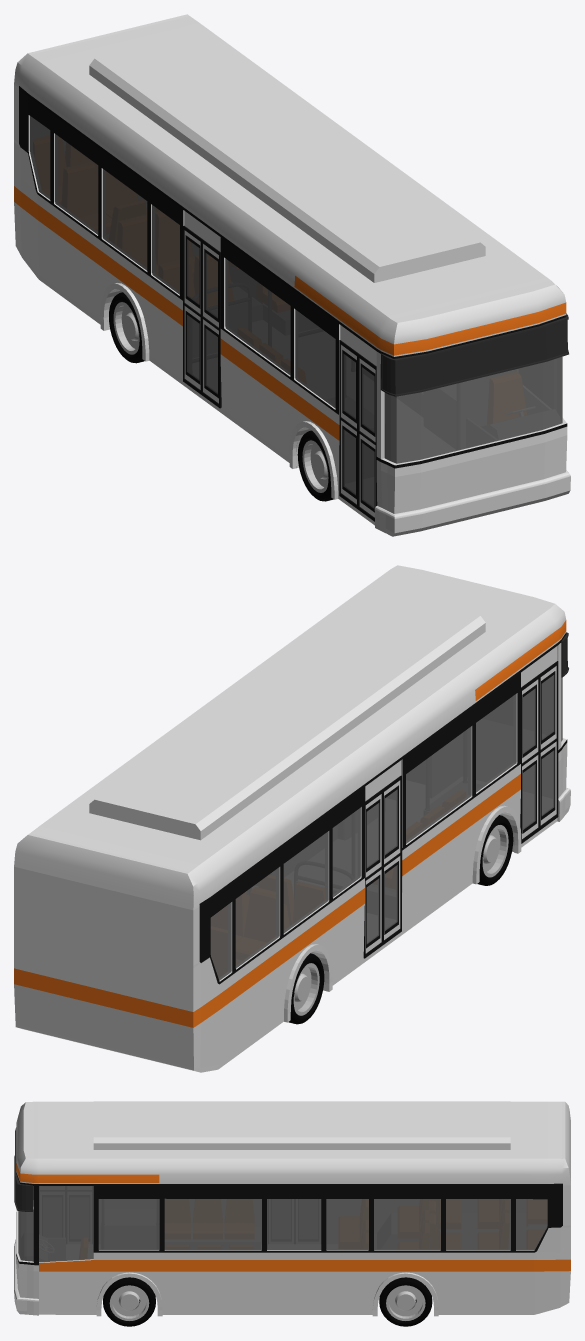
Rendered from RyanTree_bus.glb.
The picture shows the model from 3 angles, top to bottom: view 1: azimuth 30°, elevation 25°; view 2: azimuth 150°, elevation 25°; view 3: azimuth 270°, elevation 25°; orthographic projection. The views are drawn at different scales.
Visible parts, largest first — view 1: Cube.002_0, Cube.003_2, Cube.001_1; view 2: Cube.002_0, Cube.001_1, Cube.003_2; view 3: Cube.002_0.
Boxes of the visible parts, x1,y1,x2,y2 form: Cube.002_0: (14, 14, 570, 536); Cube.003_2: (183, 211, 221, 408); Cube.001_1: (339, 325, 377, 521); Cube.002_0: (14, 565, 570, 1072); Cube.001_1: (520, 646, 558, 843); Cube.003_2: (363, 760, 401, 958); Cube.002_0: (14, 1101, 570, 1326).
Bounding box in the file's own units: 6.21 × 7.59 × 21.74.
